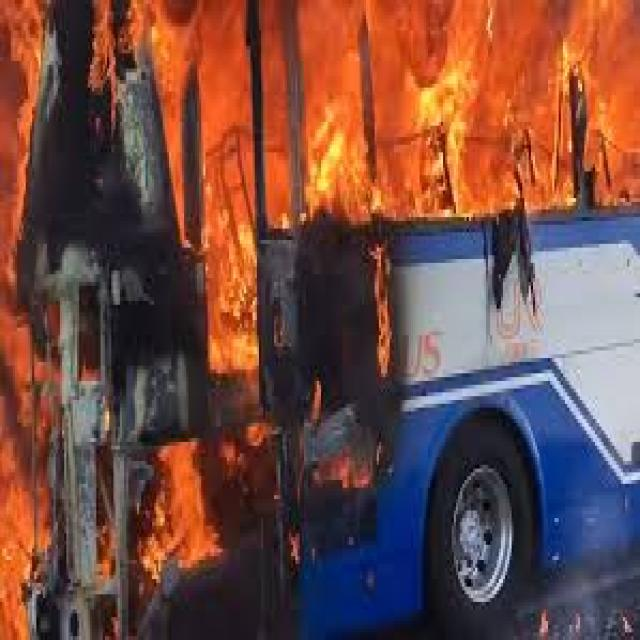Fire: (6, 7, 247, 591), (176, 0, 624, 218)
